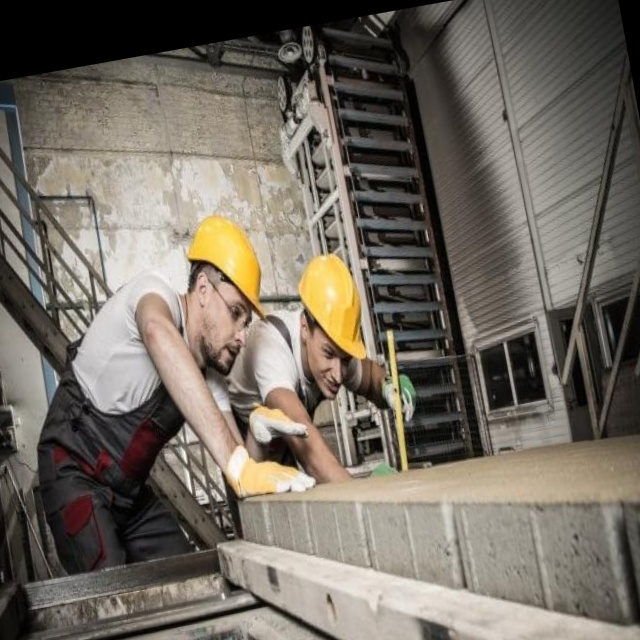Con_Casco: (175, 212, 276, 381), (291, 251, 375, 404)
